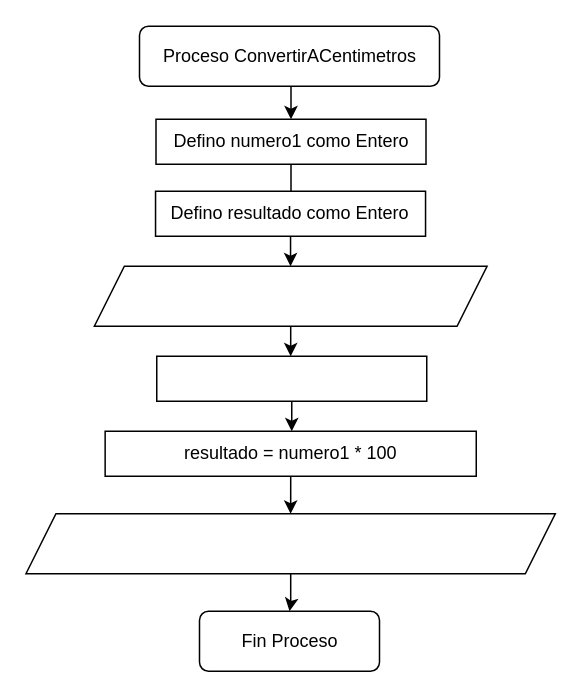
Some shapes in this 582 by 698 pixel diagram are drawn without their labels. The centre of each missing label's shape, as x and y in pixels:
Escribir "El resultado es: " + resultado + " centimetros": (x=289, y=543)
Escribir "Ingrese un numero en metros": (x=290, y=295)
Leer numero1: (x=291, y=378)
